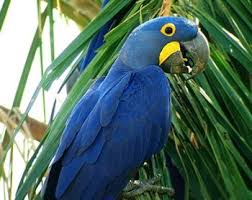guacamaya: (52, 4, 211, 199)
